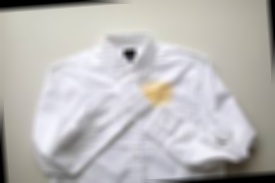coffee: (145, 82, 170, 102)
